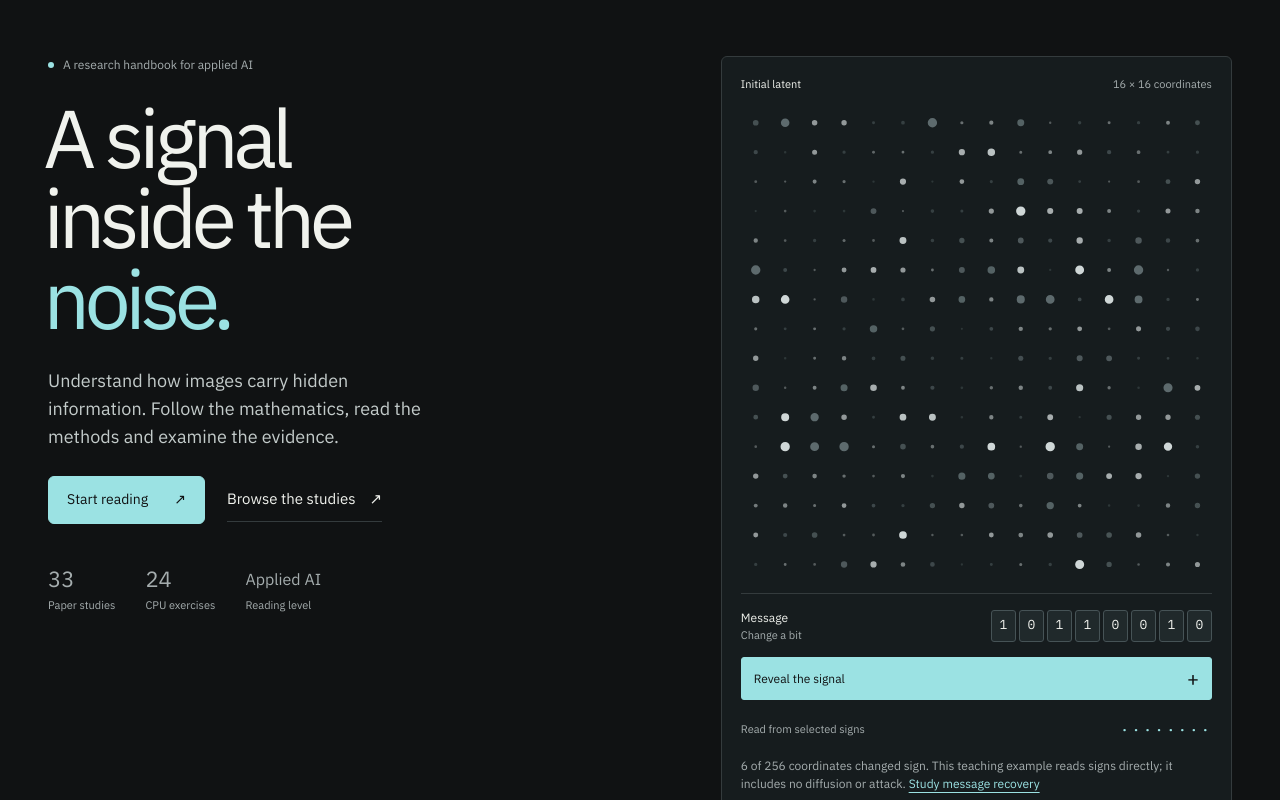
Test: computed sign example › recomputes received evidence after editing a message bit
Click the button "Reveal the signal +".
click(799, 679)  # box [741,658,1212,700]
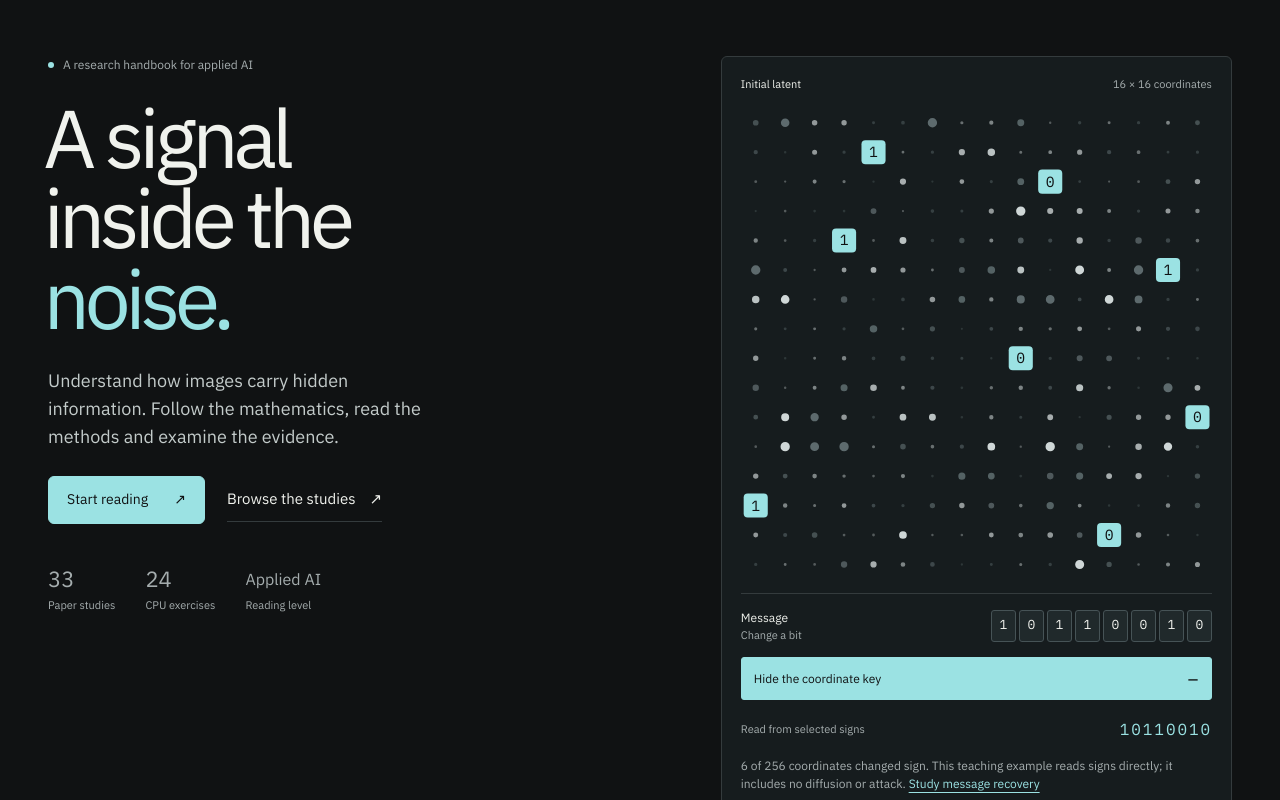
Result: the text named "Recovered example bits" reads "10110010" at [1120,720,1212,740]
Click the button named "Bit 1: 1. Change to 0".
click(1004, 626)  # box [991,610,1016,642]
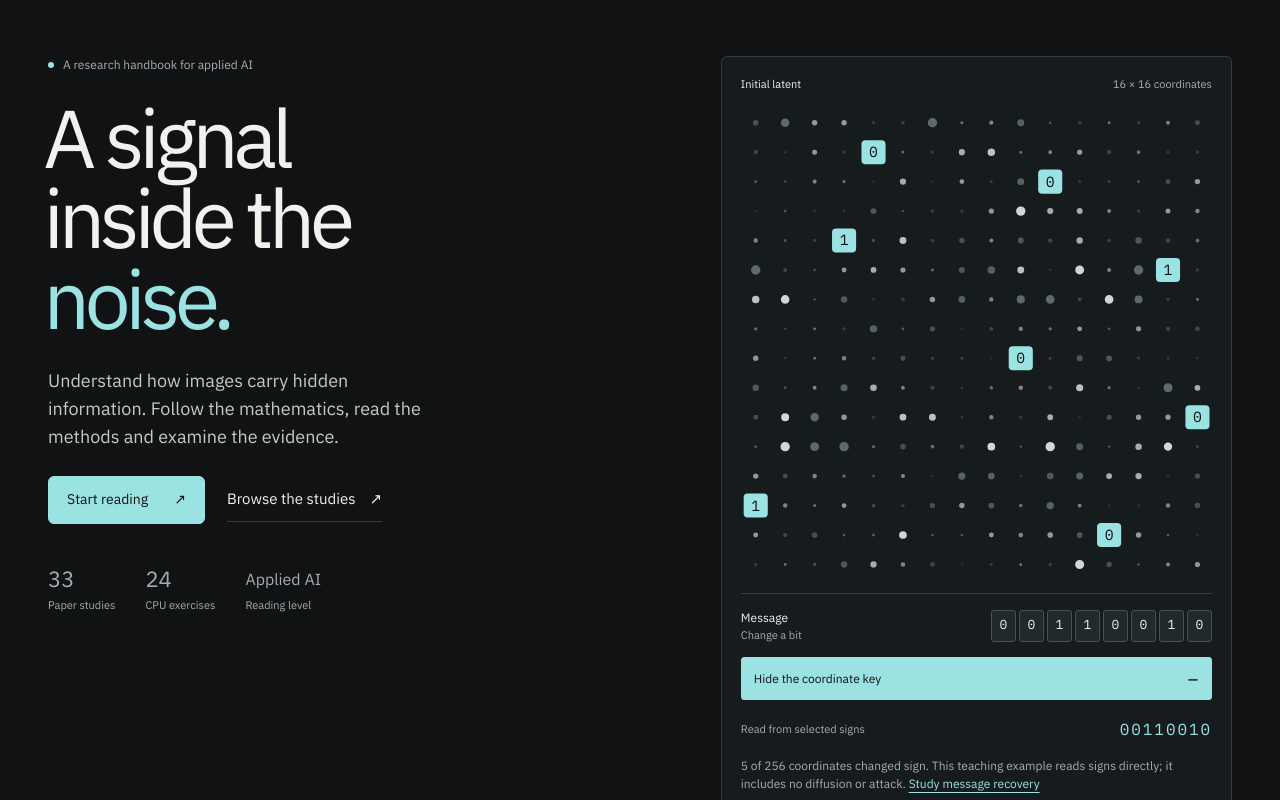
Expected: the text "it includes no diffusion or attack" is shown, [741,758,1173,791]
Result: the text named "Recovered example bits" reads "00110010" at [1120,720,1212,740]
